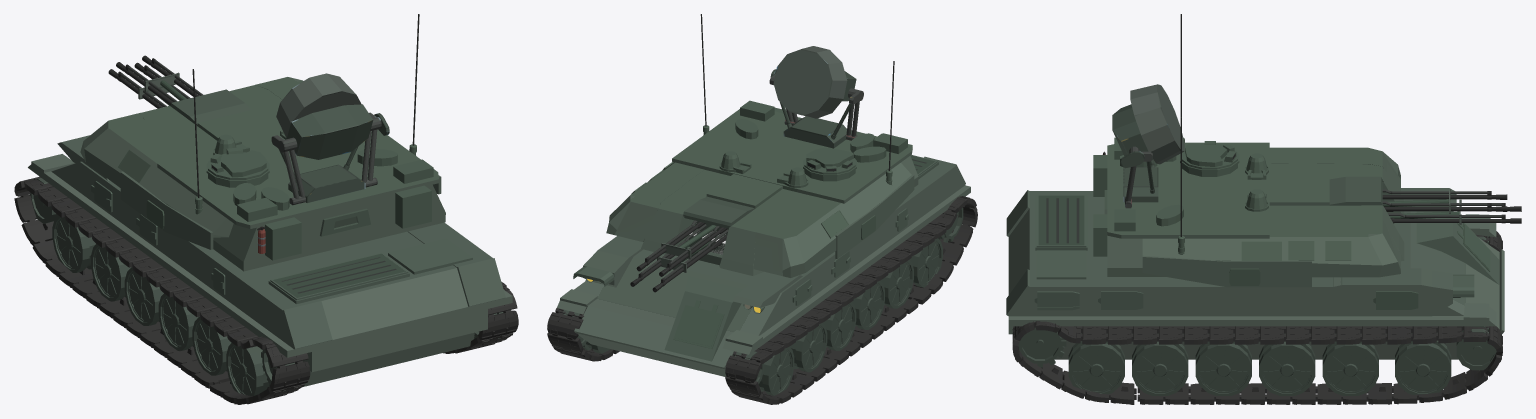
Rendered from lowpoly_zsu-23-4.glb.
The picture shows the model from 3 angles, left to right: view 1: azimuth 30°, elevation 25°; view 2: azimuth 150°, elevation 25°; view 3: azimuth 270°, elevation 25°; orthographic projection. The views are drawn at different scales.
Visible parts, largest first — view 1: cuboid.000_19, cuboid.015_43, cuboid.028_94, cuboid.035_79, cuboid.030_77, cuboid.017_52, cuboid.010_29, cylinder.031_53, cuboid.006_25, cuboid.037_81, cuboid.005_24, cuboid.001_20 (+21 smaller); view 2: cuboid.000_19, cuboid.015_43, cuboid.028_94, cuboid.035_79, cuboid.030_77, cylinder.031_53, cuboid.036_80, cuboid.007_26, cuboid_10, cuboid.037_81, cuboid.008_27, cuboid.010_29 (+18 smaller); view 3: cuboid.015_43, cuboid_10, cuboid.010_29, cuboid.000_19, cuboid.036_80, cuboid.030_77, cuboid.038_82, cylinder.031_53, cylinder.000_3, cylinder.002_5, cylinder.001_4, cylinder.003_6 (+27 smaller).
Part boxes in pixels (x1=…): cuboid.000_19: x1=28, y1=154, x2=512, y2=386; cuboid.015_43: x1=142, y1=85, x2=445, y2=271; cuboid.028_94: x1=14, y1=176, x2=310, y2=404; cuboid.035_79: x1=80, y1=112, x2=233, y2=237; cuboid.030_77: x1=108, y1=55, x2=251, y2=125; cuboid.017_52: x1=286, y1=104, x2=373, y2=159; cuboid.010_29: x1=408, y1=222, x2=505, y2=306; cylinder.031_53: x1=276, y1=73, x2=361, y2=138; cuboid.006_25: x1=273, y1=253, x2=405, y2=297; cuboid.037_81: x1=120, y1=171, x2=213, y2=249; cuboid.005_24: x1=268, y1=252, x2=409, y2=304; cuboid.001_20: x1=388, y1=238, x2=472, y2=274; cuboid.000_19: x1=557, y1=156, x2=970, y2=376; cuboid.015_43: x1=641, y1=109, x2=918, y2=275; cuboid.028_94: x1=725, y1=196, x2=977, y2=404; cuboid.035_79: x1=754, y1=163, x2=911, y2=277; cuboid.030_77: x1=630, y1=196, x2=754, y2=292; cylinder.031_53: x1=773, y1=46, x2=847, y2=118; cuboid.036_80: x1=606, y1=162, x2=703, y2=241; cuboid.007_26: x1=664, y1=276, x2=743, y2=361; cuboid_10: x1=547, y1=308, x2=619, y2=361; cuboid.037_81: x1=835, y1=174, x2=914, y2=258; cuboid.008_27: x1=673, y1=300, x2=724, y2=348; cuboid.010_29: x1=583, y1=236, x2=643, y2=287; cuboid.015_43: x1=1104, y1=142, x2=1404, y2=276; cuboid_10: x1=1012, y1=321, x2=1502, y2=404; cuboid.010_29: x1=1006, y1=268, x2=1452, y2=316; cuboid.000_19: x1=1006, y1=190, x2=1504, y2=359; cuboid.036_80: x1=1142, y1=218, x2=1400, y2=277; cuboid.030_77: x1=1329, y1=176, x2=1521, y2=224; cuboid.038_82: x1=1142, y1=255, x2=1311, y2=287; cylinder.031_53: x1=1130, y1=84, x2=1184, y2=164; cylinder.000_3: x1=1322, y1=341, x2=1378, y2=395; cylinder.002_5: x1=1195, y1=341, x2=1251, y2=395; cylinder.001_4: x1=1259, y1=341, x2=1315, y2=395; cylinder.003_6: x1=1132, y1=341, x2=1188, y2=395.
Size of the model in its own units: 2.34 by 2.77 by 4.56.
12 materials, 11 textured.
